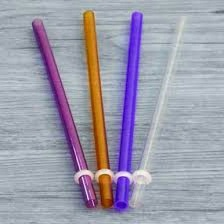drinking_straw: (26, 13, 99, 212), (123, 10, 191, 212), (75, 5, 119, 210), (110, 7, 146, 212)
